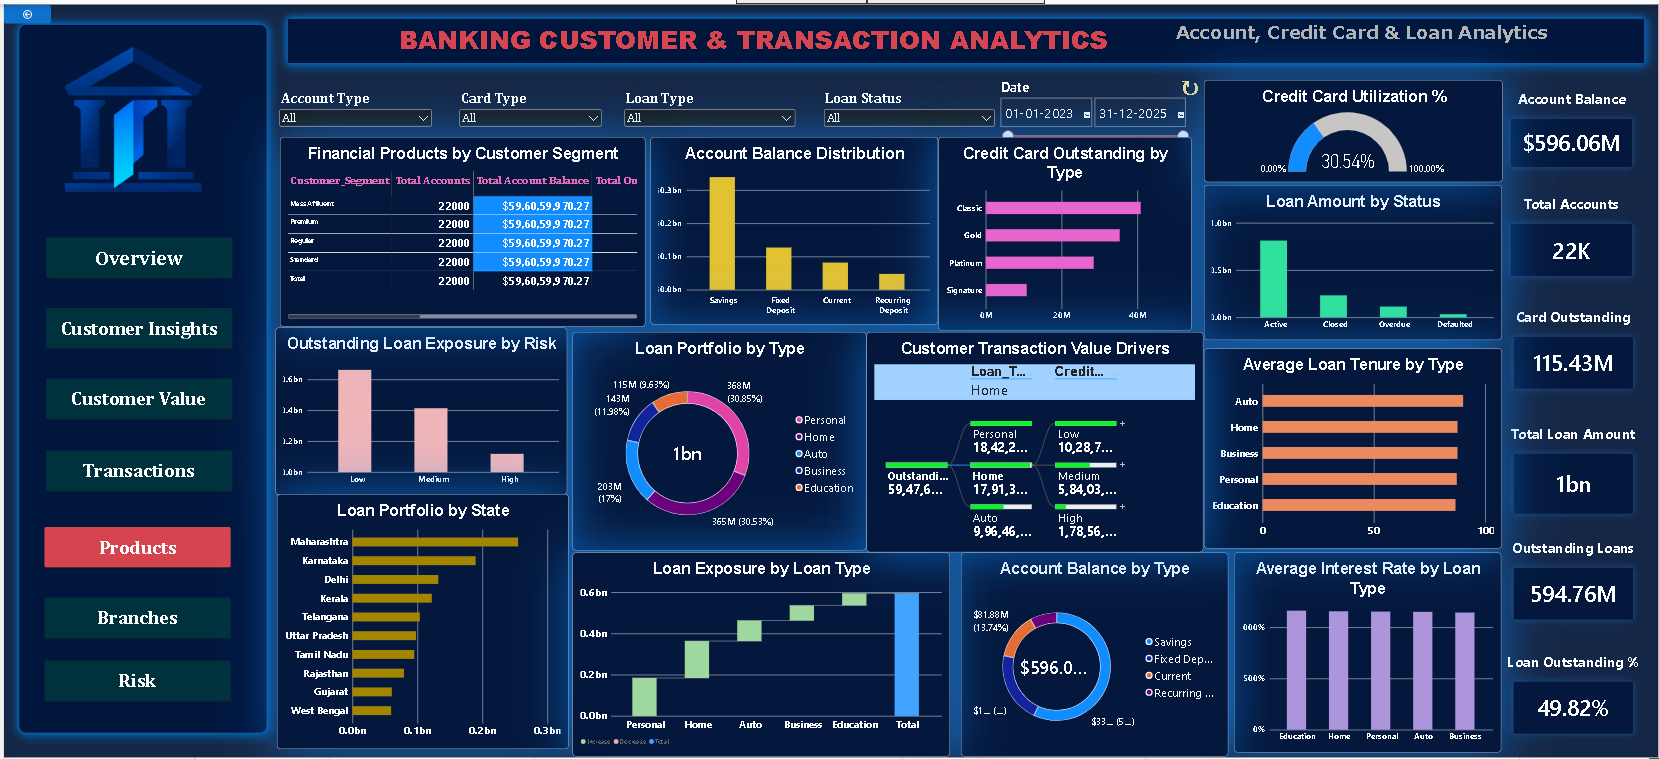

This screenshot's page, from the dashboard's own definition file:
{"tool":"powerbi","page":{"name":"Account, Credit Card & Loan Analytics","canvas":[3520,1600],"ordinal":4},"visuals":[{"type":"cardVisual","title":"Card Outstanding","fields":{"Data":["Fact_Credit_Cards.Total Outstanding Credit Card Amount"]},"box":[3191.5,642.6,295.3,195.4],"z":0},{"type":"clusteredColumnChart","title":"Average Interest Rate by Loan Type","fields":{"Category":["Fact_Loans.Loan_Type"],"Y":["Avg(Fact_Loans.Interest_Rate)"]},"box":[2618.3,1163.7,568.8,425.5],"z":1000},{"type":"donutChart","title":"Account Balance by Type","fields":{"Category":["Dim_Accounts.Account_Type"],"Y":["Dim_Accounts.Total Account Balance"]},"box":[2036.5,1163.7,568.8,434.2],"z":2000},{"type":"shape","box":[5,15,578.8,1558.8],"z":3000},{"type":"shape","box":[578.6,3.6,2939.3,146.4],"z":4000},{"type":"textbox","box":[839.3,35.7,2175,82.1],"z":5000},{"type":"textbox","box":[2493.2,35.1,801.3,86.2],"z":6000},{"type":"image","box":[75,78.6,403.6,335.7],"z":7000},{"type":"cardVisual","title":"Total Accounts","fields":{"Data":["Dim_Accounts.Total Accounts"]},"box":[3187.1,403.8,299.6,195.4],"z":8000},{"type":"cardVisual","title":"Outstanding Loans","fields":{"Data":["Fact_Loans.Outstanding Loan Amount"]},"box":[3191.5,1133.3,295.3,195.4],"z":9000},{"type":"cardVisual","title":"Account Balance","fields":{"Data":["Dim_Accounts.Total Account Balance"]},"box":[3187.1,178,299.6,186.7],"z":10000},{"type":"cardVisual","title":"Total Loan Amount","fields":{"Data":["Fact_Loans.Total Loan Amount"]},"box":[3191.5,890.1,295.3,212.8],"z":11000},{"type":"slicer","title":"Choose Date Between","fields":{"Values":["Dim_Date.Date"]},"box":[2114.6,156.3,412.5,247.5],"z":12000},{"type":"actionButton","box":[2492.4,138.9,60.8,78.2],"z":13000},{"type":"actionButton","title":"OVERVIEW","box":[80,485,415,105],"z":14000},{"type":"actionButton","title":"OVERVIEW","box":[80,635,415,105],"z":15000},{"type":"actionButton","title":"OVERVIEW","box":[80,785,415,105],"z":16000},{"type":"actionButton","title":"OVERVIEW","box":[80,940,415,105],"z":17000},{"type":"actionButton","title":"OVERVIEW","box":[78.2,1102.9,415,105],"z":18000},{"type":"actionButton","box":[0,0,100,40],"z":19000},{"type":"slicer","fields":{"Values":["Fact_Loans.Loan_Type"]},"box":[1315.7,178,373.4,134.6],"z":20000},{"type":"slicer","fields":{"Values":["Dim_Accounts.Account_Type"]},"box":[581.8,178,334.3,134.6],"z":21000},{"type":"slicer","fields":{"Values":["Fact_Credit_Cards.Card_Type"]},"box":[964,178,312.6,134.6],"z":22000},{"type":"slicer","fields":{"Values":["Fact_Loans.Status"]},"box":[1741.2,178,373.4,134.6],"z":23000},{"type":"actionButton","title":"OVERVIEW","box":[78.2,1250.5,415,105],"z":24000},{"type":"actionButton","title":"OVERVIEW","box":[78.2,1385.1,415,105],"z":25000},{"type":"clusteredColumnChart","title":"Account Balance Distribution","fields":{"Category":["Dim_Accounts.Account_Type"],"Y":["Dim_Accounts.Total Account Balance"]},"box":[1376.5,282.2,612.2,399.5],"z":26000},{"type":"cardVisual","title":"Loan Outstanding %","fields":{"Data":["Fact_Transactions.Outstanding Loan %"]},"box":[3191.5,1376.5,295.3,195.4],"z":27000},{"type":"clusteredColumnChart","title":"Loan Amount by Status","fields":{"Category":["Fact_Loans.Status"],"Y":["Fact_Loans.Total Loan Amount"]},"box":[2553.2,382.1,634,330],"z":28000},{"type":"clusteredBarChart","title":"Credit Card Outstanding by Type","fields":{"Category":["Fact_Credit_Cards.Card_Type"],"Y":["Fact_Credit_Cards.Total Outstanding Credit Card Amount"]},"box":[1988.7,282.2,538.4,412.5],"z":29000},{"type":"clusteredBarChart","title":"Average Loan Tenure by Type","fields":{"Category":["Fact_Loans.Loan_Type"],"Y":["Avg(Fact_Loans.Tenure_Months)"]},"box":[2553.2,729.5,634,425.5],"z":30000},{"type":"donutChart","title":"Loan Portfolio by Type","fields":{"Category":["Fact_Loans.Loan_Type"],"Y":["Fact_Loans.Total Loan Amount"]},"box":[1211.5,694.7,625.3,464.6],"z":31000},{"type":"clusteredColumnChart","title":"Outstanding Loan Exposure by Risk","fields":{"Category":["Fact_Loans.Credit_Risk"],"Y":["Fact_Loans.Total Loan Amount"]},"box":[577.5,686.1,620.9,356.1],"z":32000},{"type":"clusteredBarChart","title":"Loan Portfolio by State","fields":{"Category":["Dim_Branches.State"],"Y":["Fact_Loans.Total Loan Amount"]},"box":[581.8,1042.1,620.9,542.8],"z":33000},{"type":"gauge","fields":{"Y":["Fact_Credit_Cards.Credit Card Utilization %"]},"box":[2552.7,158.9,635.5,217.1],"z":34000},{"type":"waterfallChart","title":"Loan Exposure by Loan Type","fields":{"Category":["Fact_Loans.Loan_Type"],"Y":["Fact_Loans.Outstanding Loan Amount"]},"box":[1211.5,1163.7,803.3,434.2],"z":35000},{"type":"pivotTable","title":"Financial Products by Customer Segment","fields":{"Rows":["Dim_Customers.Customer_Segment"],"Values":["Dim_Accounts.Total Accounts","Dim_Accounts.Total Account Balance","Fact_Credit_Cards.Total Outstanding Credit Card Amount","Fact_Loans.Total Loan Amount","Fact_Loans.Outstanding Loan Amount"]},"box":[586.2,282.2,777.2,403.8],"z":36000},{"type":"decompositionTreeVisual","title":"Customer Transaction Value Drivers","fields":{"Analyze":["Fact_Loans.Outstanding Loan Amount"],"ExplainBy":["Fact_Loans.Loan_Type","Fact_Loans.Credit_Risk","Fact_Loans.Status","Fact_Loans.Interest_Rate","Fact_Loans.Tenure_Months"]},"box":[1836.7,694.7,716.5,469],"z":37000}]}

Visuals, with their boxes on the page's 3520x1600 design canvas (x1, y1, x2, y2). These are canvas units, not pixel positions in the 1659x759 screenshot, which may show the page scaled, cropped or inside an application window:
"Card Outstanding" cardVisual: pyautogui.locateOnScreen(3192, 643, 3487, 838)
"Average Interest Rate by Loan Type" clusteredColumnChart: pyautogui.locateOnScreen(2618, 1164, 3187, 1589)
"Account Balance by Type" donutChart: pyautogui.locateOnScreen(2036, 1164, 2605, 1598)
shape: pyautogui.locateOnScreen(5, 15, 584, 1574)
shape: pyautogui.locateOnScreen(579, 4, 3518, 150)
textbox: pyautogui.locateOnScreen(839, 36, 3014, 118)
textbox: pyautogui.locateOnScreen(2493, 35, 3294, 121)
image: pyautogui.locateOnScreen(75, 79, 479, 414)
"Total Accounts" cardVisual: pyautogui.locateOnScreen(3187, 404, 3487, 599)
"Outstanding Loans" cardVisual: pyautogui.locateOnScreen(3192, 1133, 3487, 1329)
"Account Balance" cardVisual: pyautogui.locateOnScreen(3187, 178, 3487, 365)
"Total Loan Amount" cardVisual: pyautogui.locateOnScreen(3192, 890, 3487, 1103)
"Choose Date Between" slicer: pyautogui.locateOnScreen(2115, 156, 2527, 404)
actionButton: pyautogui.locateOnScreen(2492, 139, 2553, 217)
"OVERVIEW" actionButton: pyautogui.locateOnScreen(80, 485, 495, 590)
"OVERVIEW" actionButton: pyautogui.locateOnScreen(80, 635, 495, 740)
"OVERVIEW" actionButton: pyautogui.locateOnScreen(80, 785, 495, 890)
"OVERVIEW" actionButton: pyautogui.locateOnScreen(80, 940, 495, 1045)
"OVERVIEW" actionButton: pyautogui.locateOnScreen(78, 1103, 493, 1208)
actionButton: pyautogui.locateOnScreen(0, 0, 100, 40)
slicer - Fact_Loans.Loan_Type: pyautogui.locateOnScreen(1316, 178, 1689, 313)
slicer - Dim_Accounts.Account_Type: pyautogui.locateOnScreen(582, 178, 916, 313)
slicer - Fact_Credit_Cards.Card_Type: pyautogui.locateOnScreen(964, 178, 1277, 313)
slicer - Fact_Loans.Status: pyautogui.locateOnScreen(1741, 178, 2115, 313)
"OVERVIEW" actionButton: pyautogui.locateOnScreen(78, 1250, 493, 1356)
"OVERVIEW" actionButton: pyautogui.locateOnScreen(78, 1385, 493, 1490)
"Account Balance Distribution" clusteredColumnChart: pyautogui.locateOnScreen(1376, 282, 1989, 682)
"Loan Outstanding %" cardVisual: pyautogui.locateOnScreen(3192, 1376, 3487, 1572)
"Loan Amount by Status" clusteredColumnChart: pyautogui.locateOnScreen(2553, 382, 3187, 712)
"Credit Card Outstanding by Type" clusteredBarChart: pyautogui.locateOnScreen(1989, 282, 2527, 695)
"Average Loan Tenure by Type" clusteredBarChart: pyautogui.locateOnScreen(2553, 730, 3187, 1155)
"Loan Portfolio by Type" donutChart: pyautogui.locateOnScreen(1212, 695, 1837, 1159)
"Outstanding Loan Exposure by Risk" clusteredColumnChart: pyautogui.locateOnScreen(578, 686, 1198, 1042)
"Loan Portfolio by State" clusteredBarChart: pyautogui.locateOnScreen(582, 1042, 1203, 1585)
gauge - Fact_Credit_Cards.Credit Card Utilization %: pyautogui.locateOnScreen(2553, 159, 3188, 376)
"Loan Exposure by Loan Type" waterfallChart: pyautogui.locateOnScreen(1212, 1164, 2015, 1598)
"Financial Products by Customer Segment" pivotTable: pyautogui.locateOnScreen(586, 282, 1363, 686)
"Customer Transaction Value Drivers" decompositionTreeVisual: pyautogui.locateOnScreen(1837, 695, 2553, 1164)
